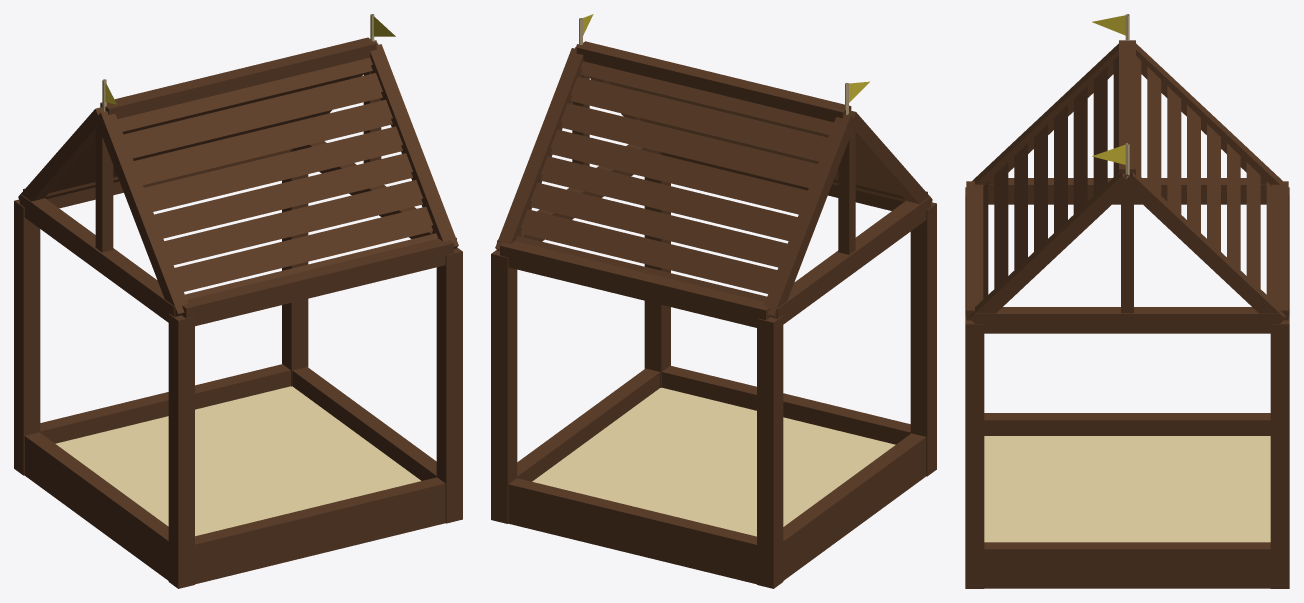
3 views of the same model, side by side, from view 1: azimuth 30°, elevation 25°; view 2: azimuth 150°, elevation 25°; view 3: azimuth 270°, elevation 25° (orthographic).
Parts seen in each view (by area): view 1: SW-Y311; view 2: SW-Y311; view 3: SW-Y311.
Part boxes in pixels (x1=…): SW-Y311: x1=14, y1=14, x2=462, y2=588; SW-Y311: x1=491, y1=14, x2=936, y2=588; SW-Y311: x1=965, y1=14, x2=1289, y2=588.
Bounding box in the file's own units: 1.5 × 2.25 × 1.5.
